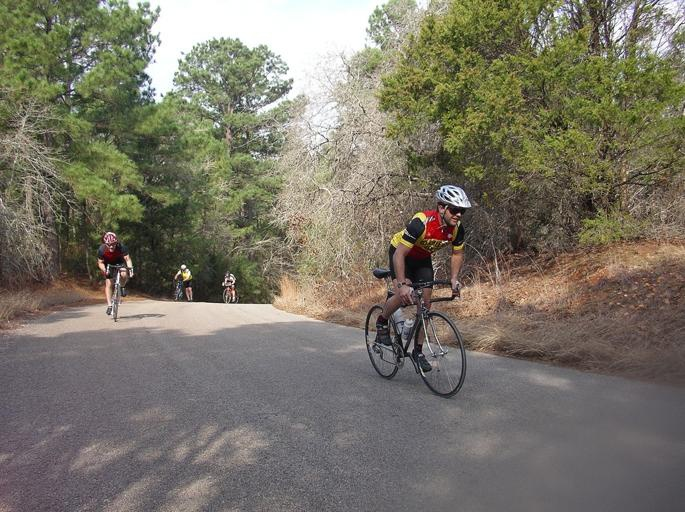non-vehicle: (361, 263, 469, 398), (102, 262, 133, 323), (220, 281, 239, 303), (170, 277, 183, 301)
